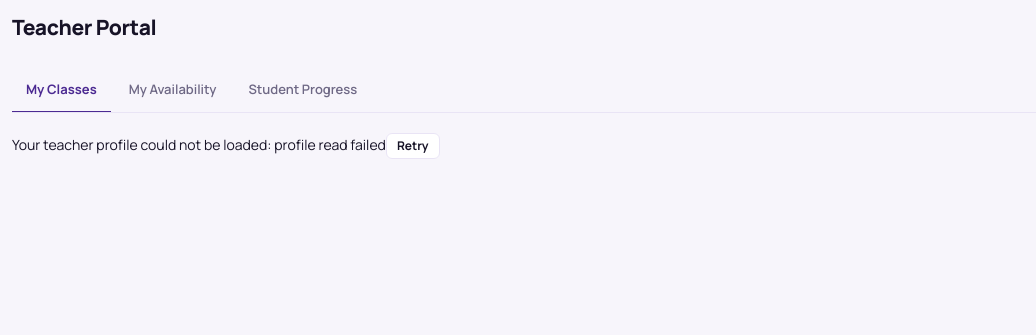
Test: Teacher portal error states › a failed teacher profile lookup shows an error and Retry, not "Teacher not found"
The image size is (1036, 335).
Expected: the text "Your teacher profile could not be loaded: profile read failed" is shown, [12,135,386,154]
Click the button "Retry" at (413, 146), box [386,133,440,159]
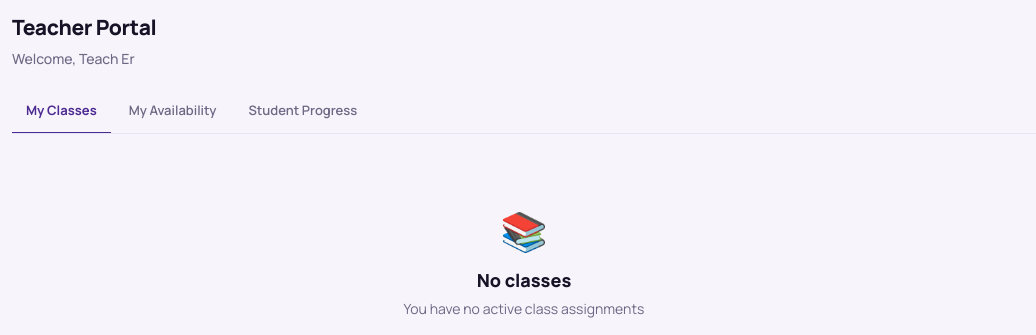
Now the text "No classes" is shown, box [477,268,571,292]
